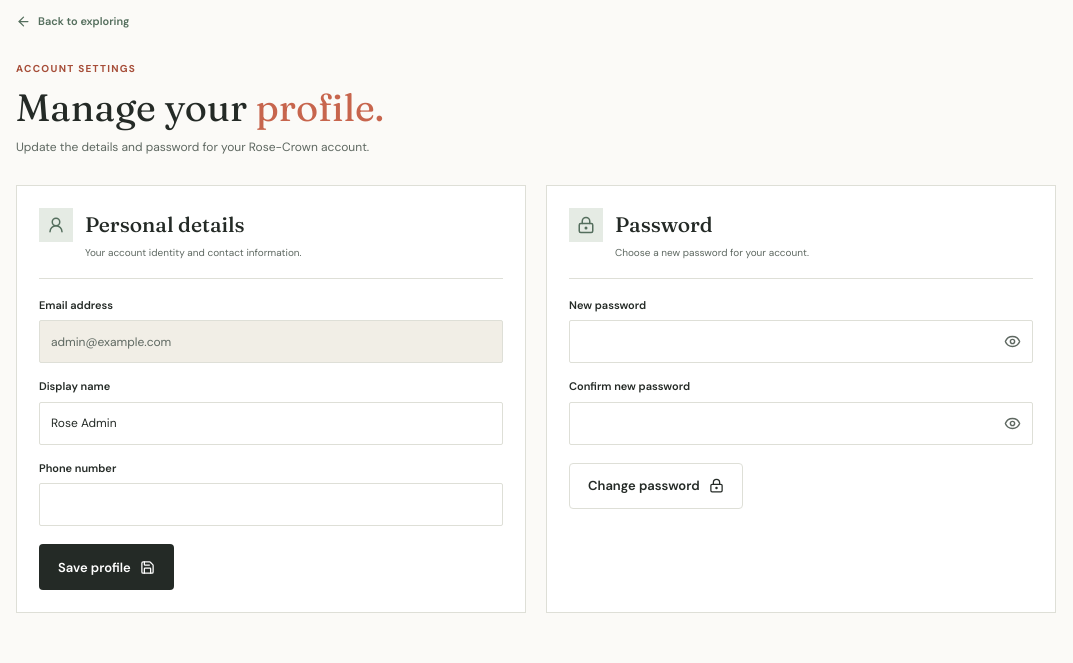
Scenario: profile settings › rejects mismatched password confirmation
The image size is (1073, 663).
Step 1. Type "new-password-123" into the password field labelled "New password" → (801, 342), box [569,320,1033,363]
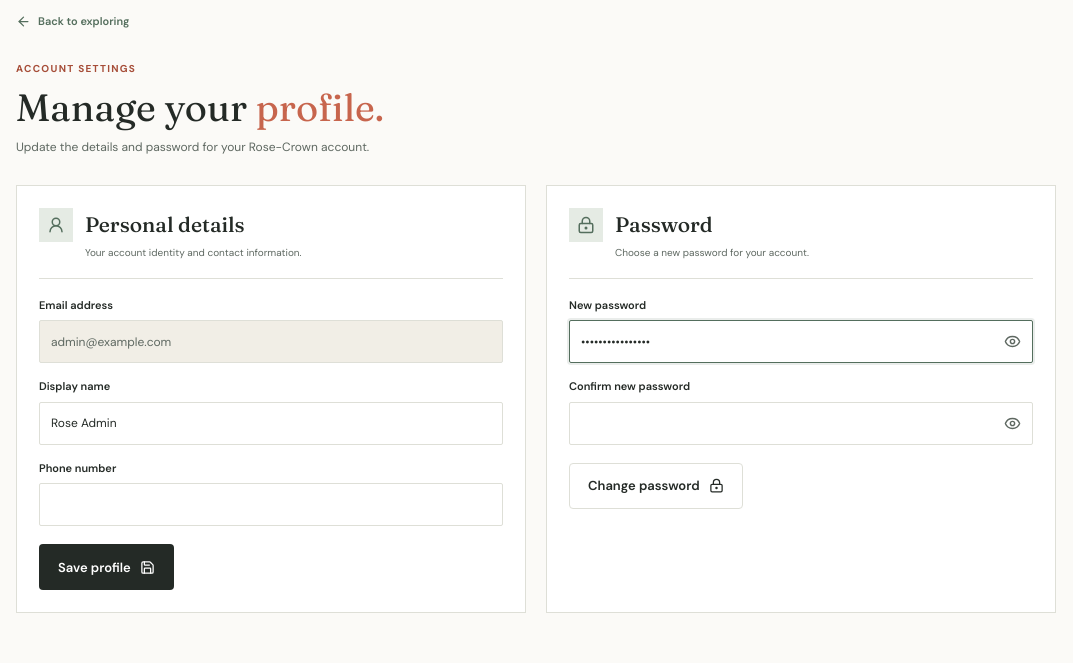
Step 2. Type "different-password" into the password field labelled "Confirm new password" → (801, 423), box [569,402,1033,445]
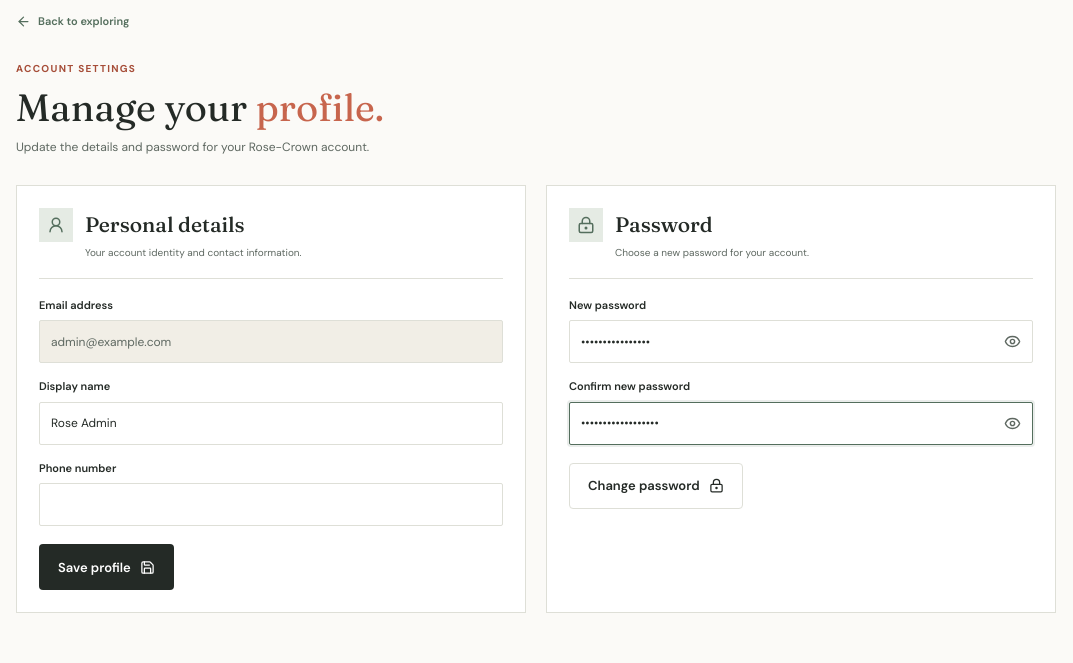
Step 3. Click the button "Change password" → (656, 486), box [569,463,743,509]
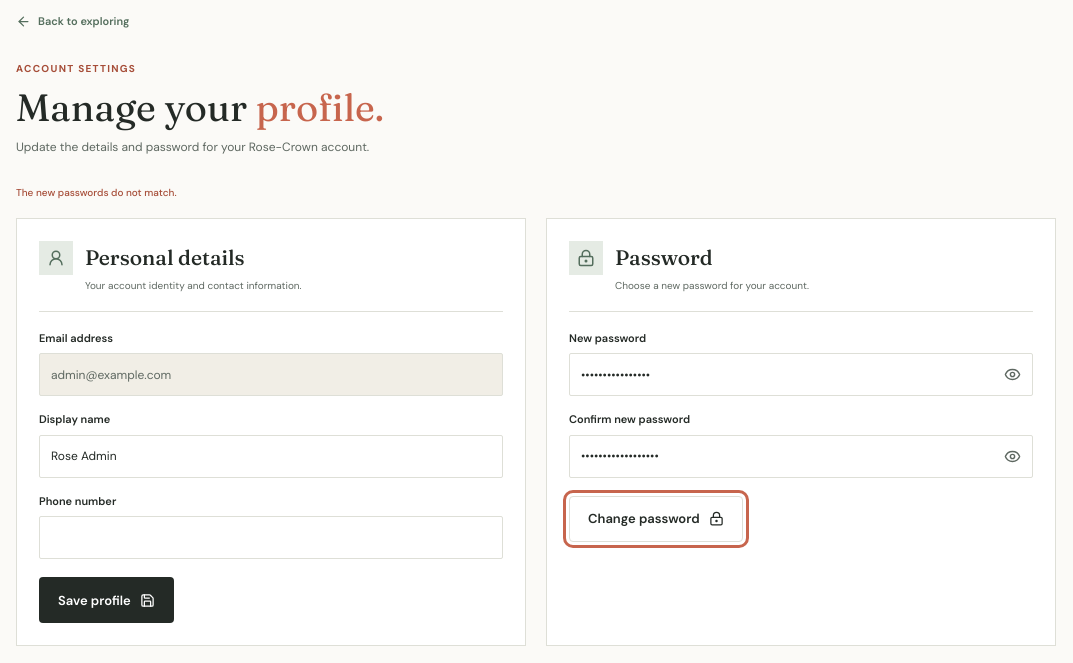
Check: the message reads "The new passwords do not match.", box [16,186,176,199]
